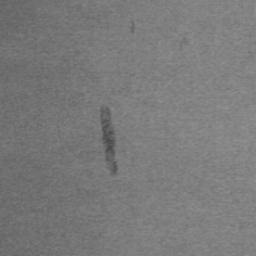Iron scale compression: (100, 105, 118, 176)
